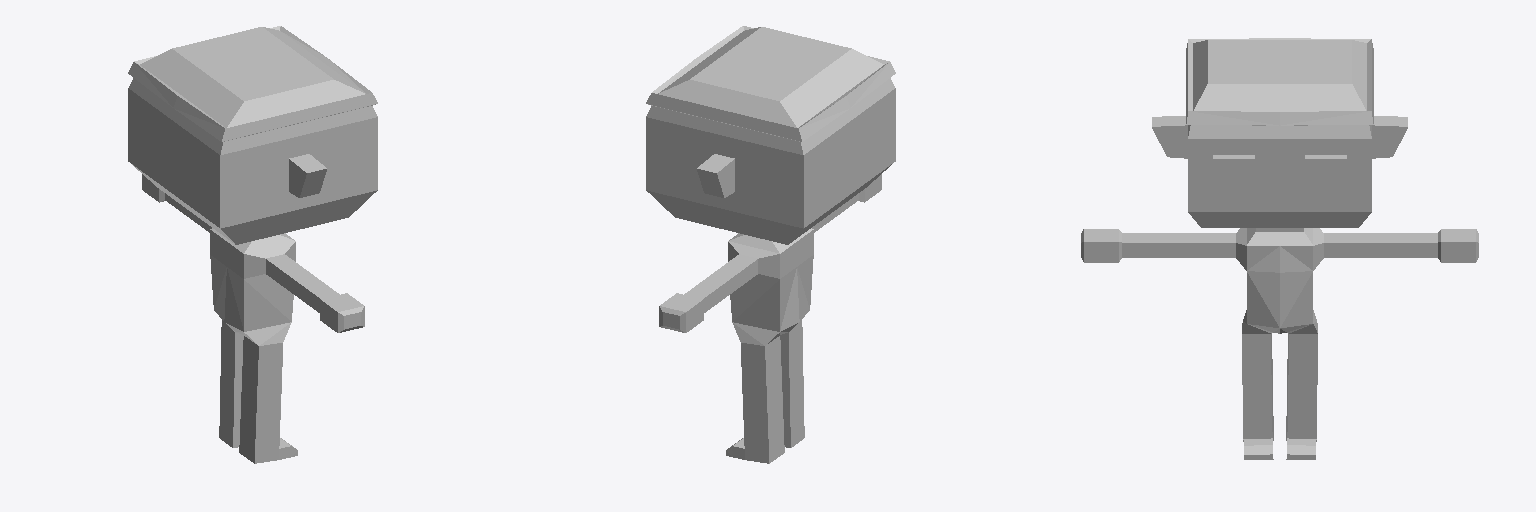
The model's file is Ludzik5-textured-1-partsA.obj.
The picture shows the model from 3 angles: view 1: azimuth 30°, elevation 25°; view 2: azimuth 150°, elevation 25°; view 3: azimuth 270°, elevation 25°; orthographic projection.
Visible parts, largest first — view 1: Ludzik_Cube; view 2: Ludzik_Cube, Reka2_Cube.002, Reka_Cube.001; view 3: Ludzik_Cube, Reka2_Cube.002, Reka_Cube.001.
Boxes of the visible parts, x1,y1,x2,y2 form: Ludzik_Cube: [128, 26, 377, 463]; Ludzik_Cube: [646, 26, 895, 463]; Reka2_Cube.002: [659, 277, 727, 332]; Reka_Cube.001: [709, 254, 757, 295]; Ludzik_Cube: [1081, 38, 1407, 459]; Reka2_Cube.002: [1385, 229, 1478, 262]; Reka_Cube.001: [1324, 233, 1384, 257].
Size of the model in its own units: 6.33 by 14.06 by 13.19.